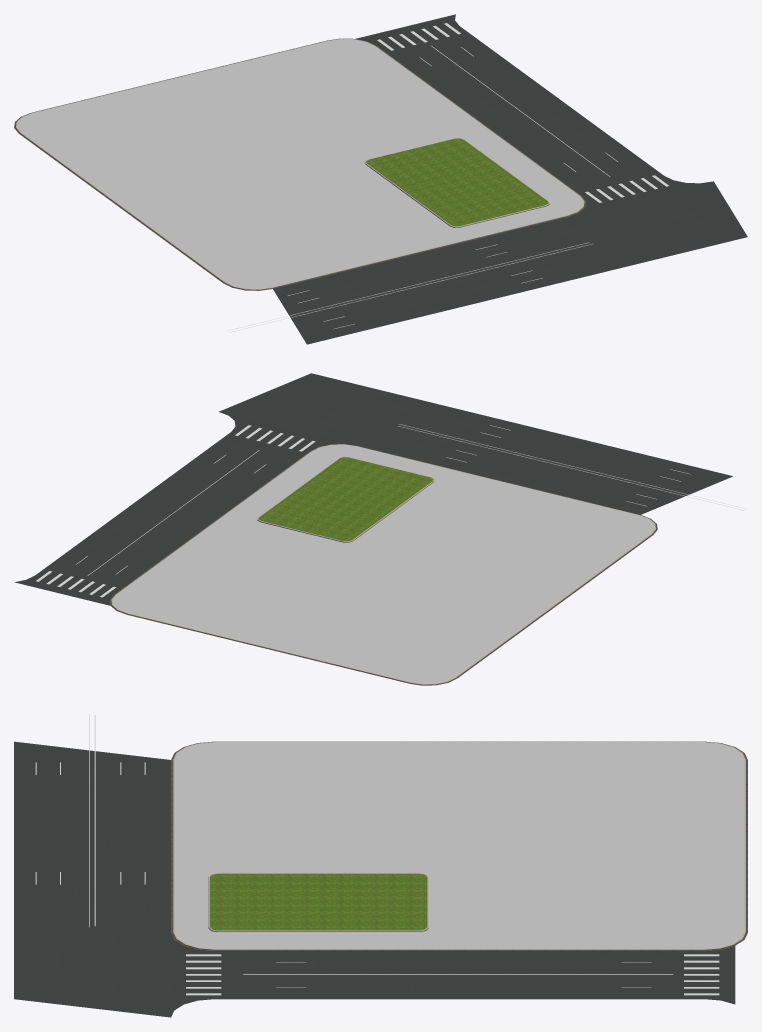
Rendered from New_Terrain_Area_23.fbx.
3 renders of one model, top to bottom at view 1: azimuth 30°, elevation 25°; view 2: azimuth 150°, elevation 25°; view 3: azimuth 270°, elevation 25°, orthographic. The views are drawn at different scales.
Visible parts, largest first — view 1: Area_23, Road_16, Road_Alpha_50, Road_Alpha_54.002; view 2: Area_23, Road_16, Road_Alpha_50, Road_Alpha_54.002; view 3: Area_23, Road_16, Road_Alpha_50, Road_Alpha_54.002.
Part boxes in pixels (box(x1,y1,x2,y2)): Area_23: box(14, 38, 586, 290); Road_16: box(273, 14, 747, 344); Road_Alpha_50: box(377, 23, 668, 202); Road_Alpha_54.002: box(227, 242, 593, 332); Area_23: box(109, 444, 657, 685); Road_16: box(14, 373, 732, 605); Road_Alpha_50: box(36, 425, 315, 597); Road_Alpha_54.002: box(398, 424, 747, 510); Area_23: box(171, 741, 747, 950); Road_16: box(14, 741, 735, 1017); Road_Alpha_50: box(186, 954, 719, 995); Road_Alpha_54.002: box(35, 714, 145, 927).
Size of the model in its own units: 8320 by 21.84 by 8518.
